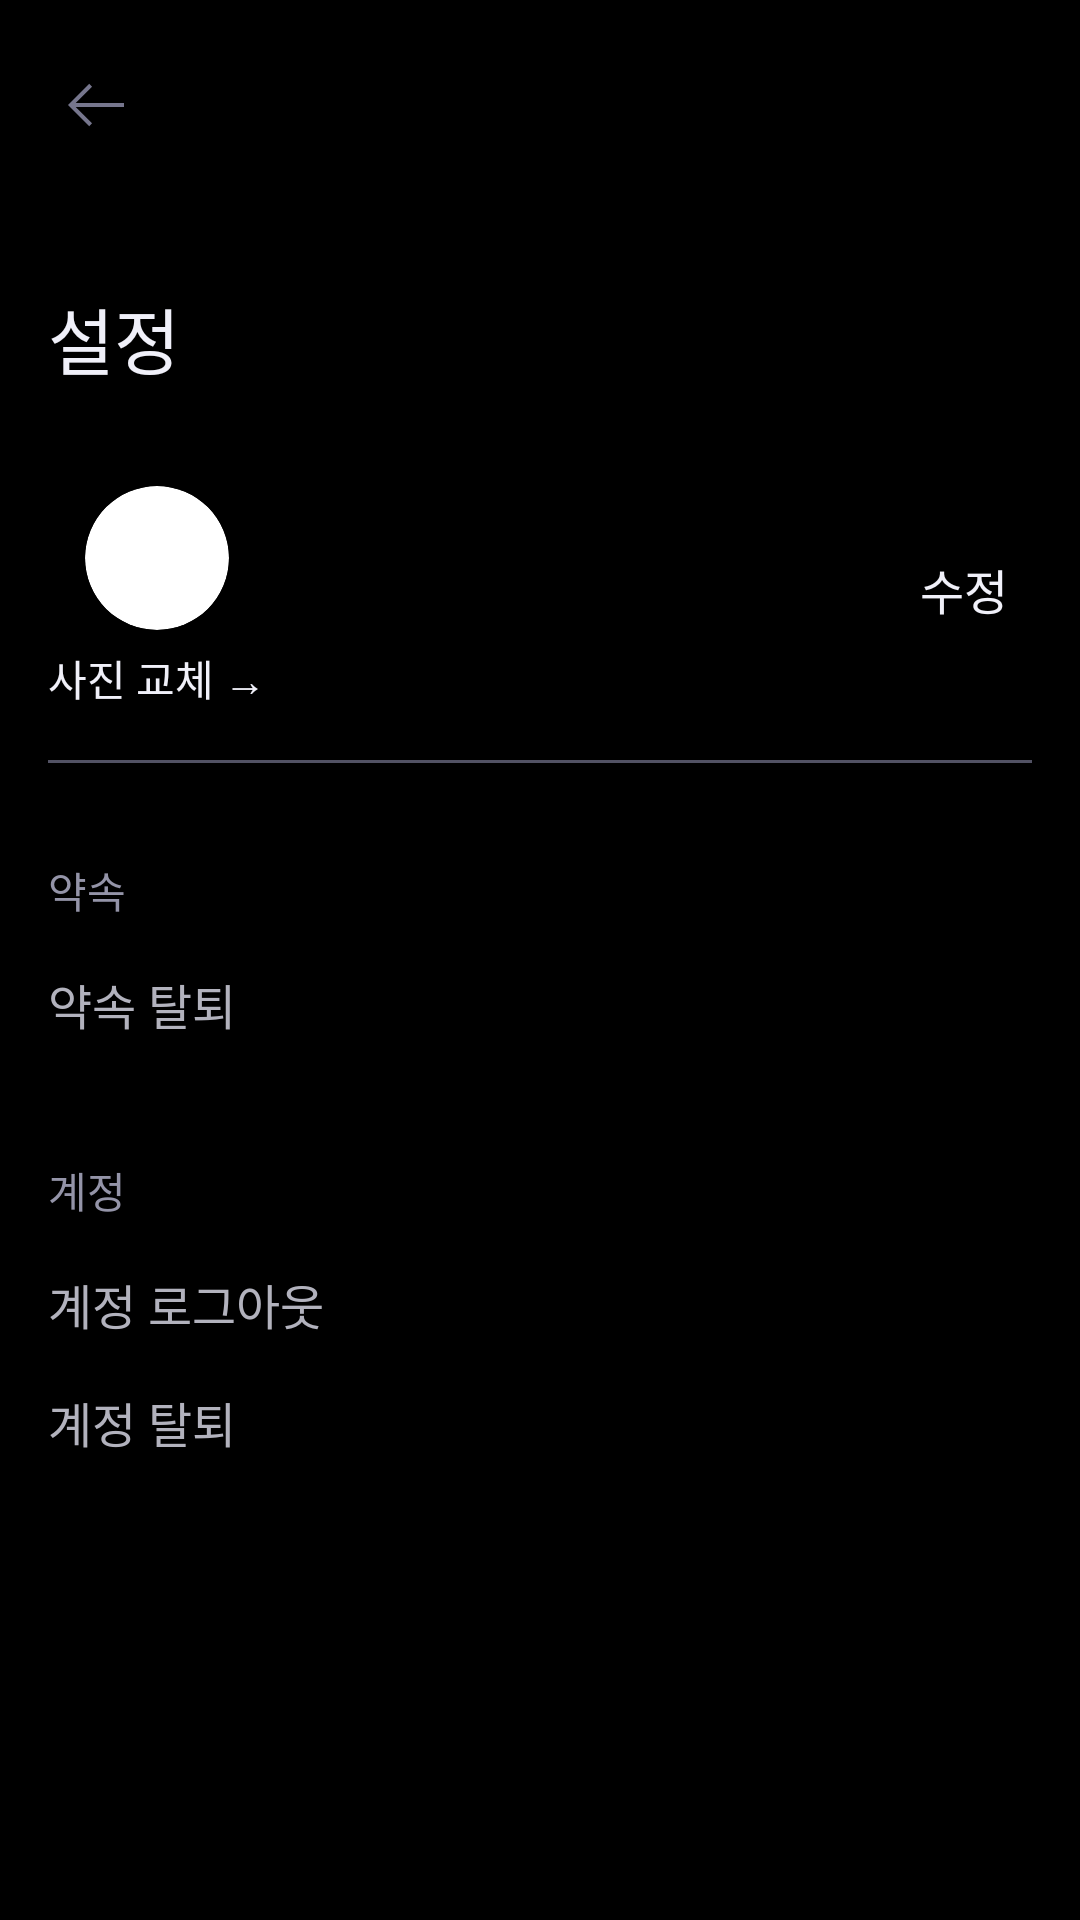

Point at icon controls on the screen. Image size 1080×1920, points as (x,y).
back: (96,105)
